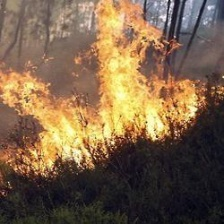fire: (1, 1, 221, 179)
